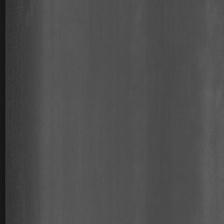silk_spot: (11, 7, 40, 77)
